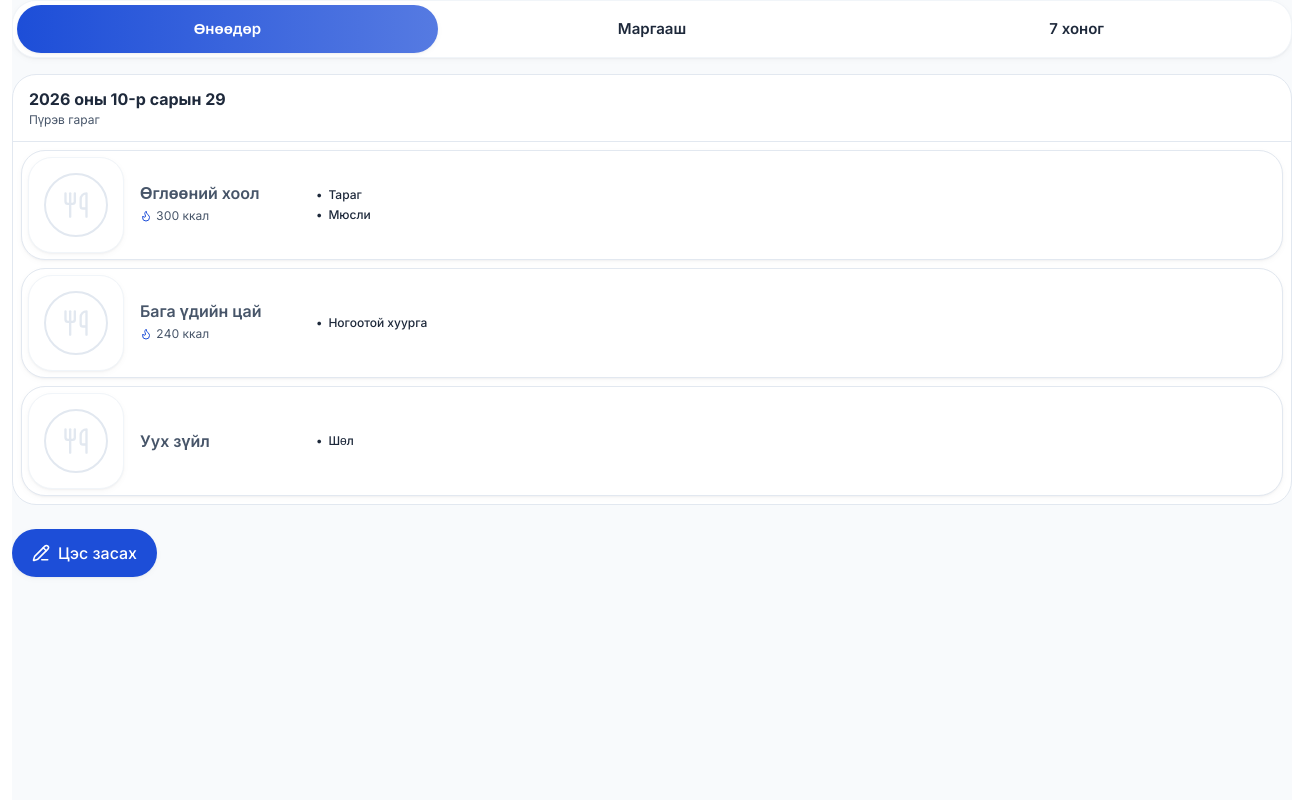
Test: the staff view of a child's menu › keeps the editor behind Цэс засах
Expected: the panel named "Өнөөдөр" is shown, 12,74 -> 1292,505
Expected: the text "Хоолны цэс засах" is not shown
What coordinates should you click on to do the following:
click the button "Цэс засах"
I would click on:
 (84, 553)
Its box is 12,529 -> 157,577.
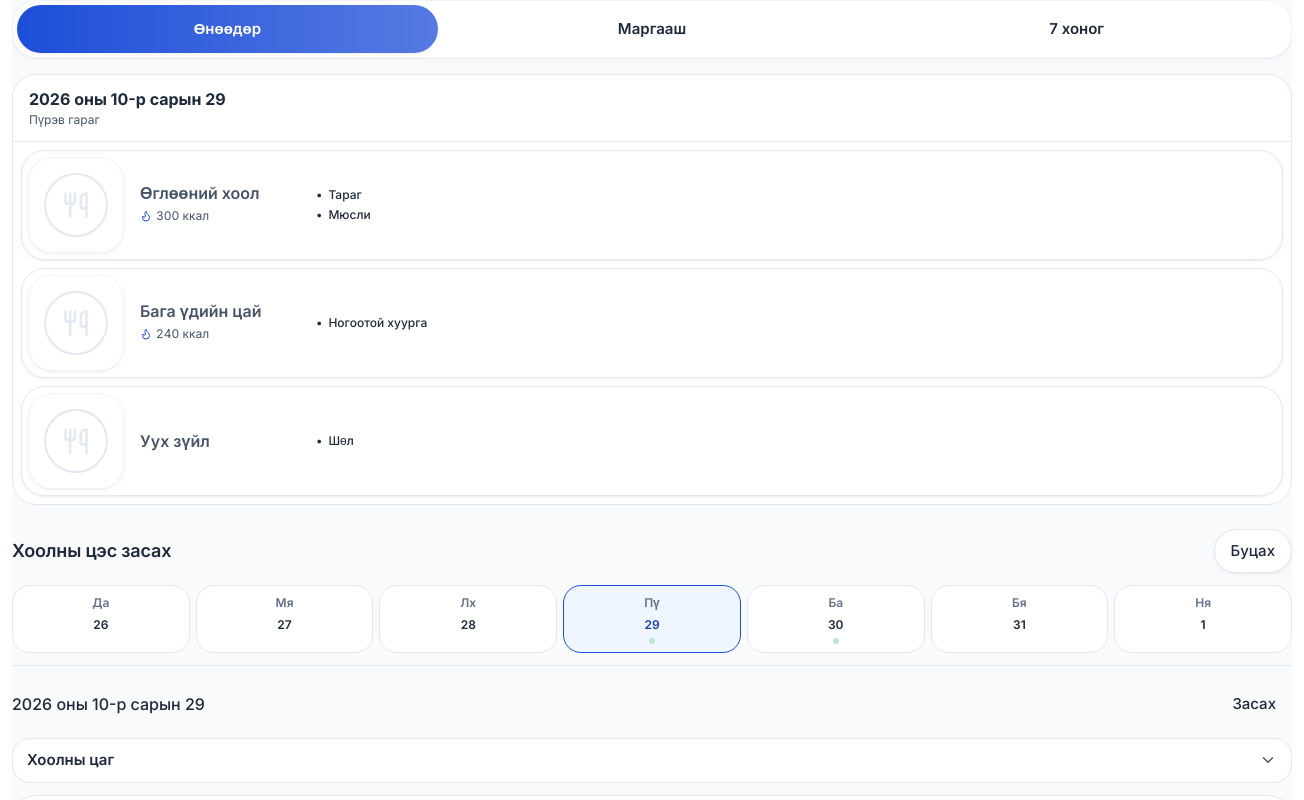
Expected: the heading "Хоолны цэс засах" is shown, 12,539 -> 171,563
Expected: the button "Засах" is shown, 1216,682 -> 1292,726
